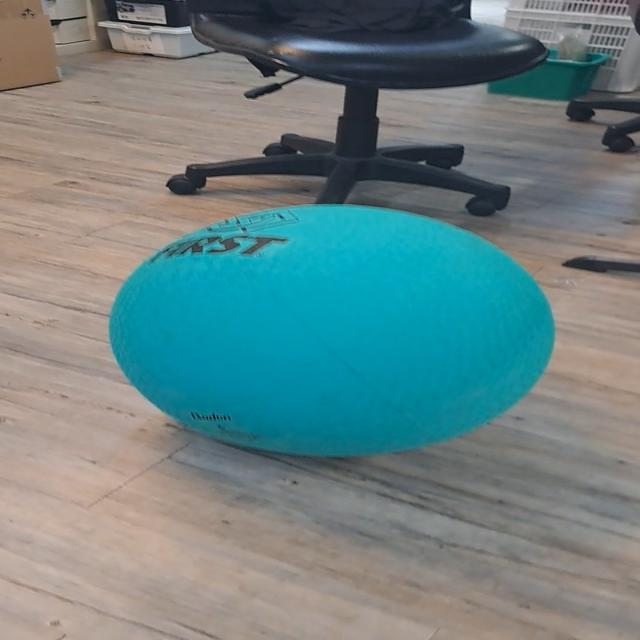ALGAE: (106, 202, 557, 458)
